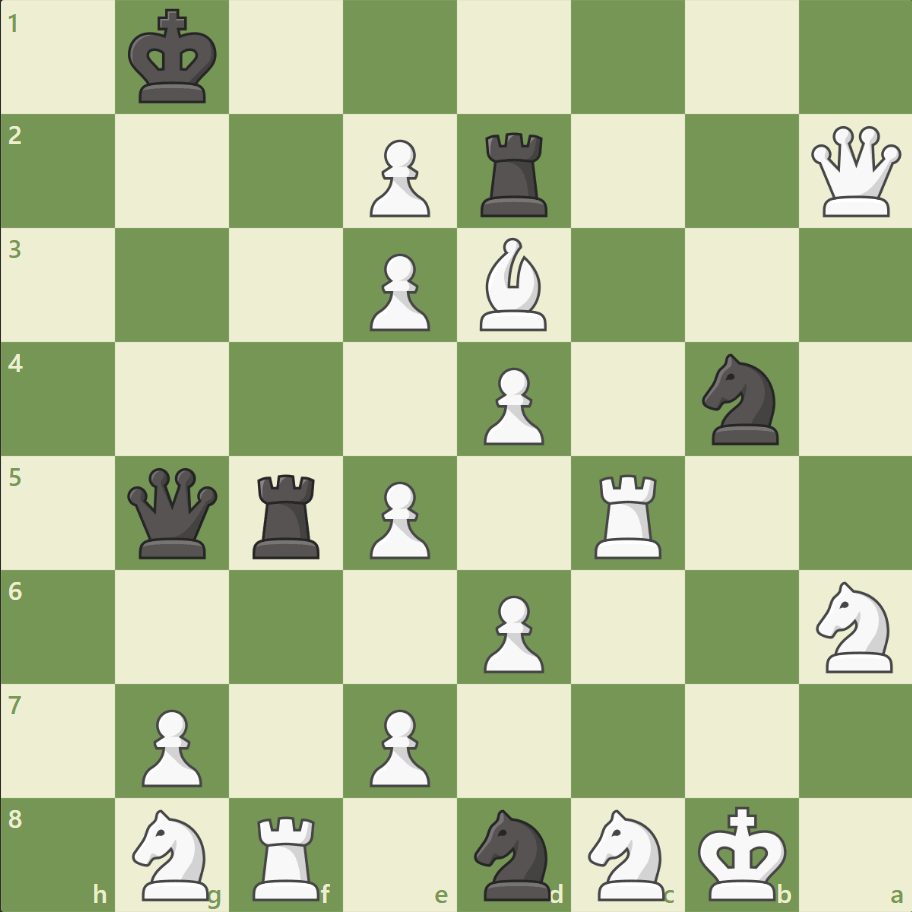B: (471, 233, 555, 336)
K: (692, 798, 792, 906)
N: (124, 802, 222, 904), (579, 802, 676, 904), (806, 575, 903, 677)
P: (133, 700, 208, 791), (474, 586, 549, 677), (474, 359, 549, 450), (361, 700, 435, 791), (361, 473, 435, 564), (361, 246, 435, 337), (361, 132, 435, 223)
Q: (805, 122, 904, 222)
R: (246, 806, 329, 904), (587, 466, 670, 563)
k: (124, 4, 224, 112)
n: (465, 802, 562, 904), (692, 348, 789, 450)
q: (124, 463, 223, 562)
r: (246, 466, 329, 563), (473, 125, 556, 222)
